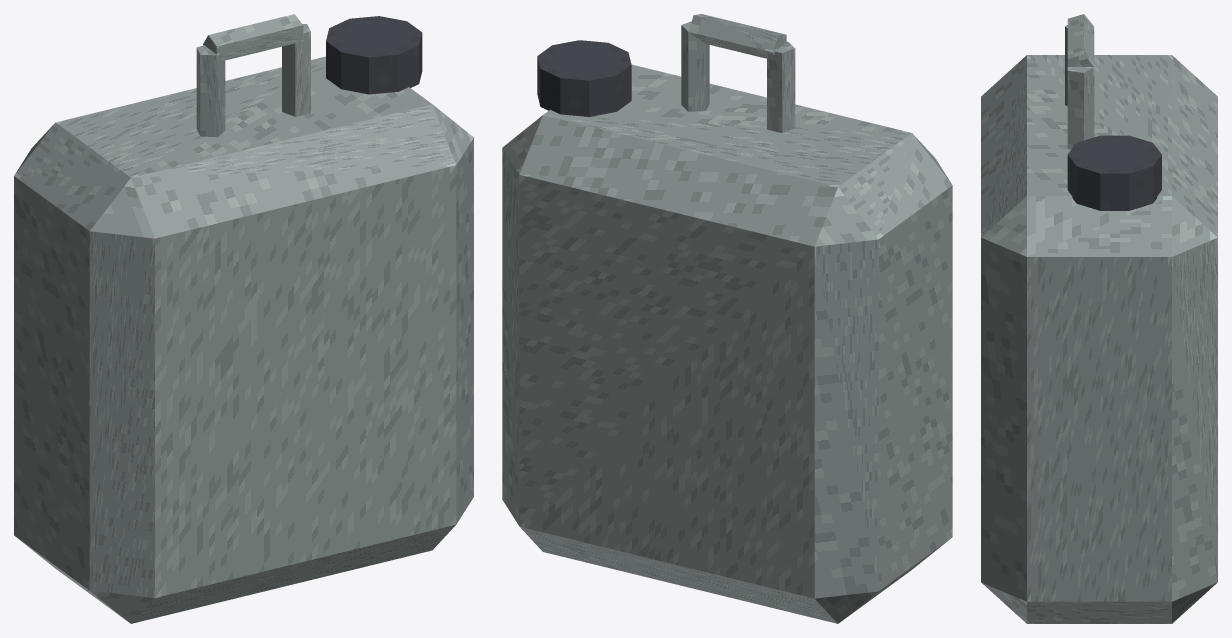
Rendered from fuel_tin.glb.
The picture shows the model from 3 angles, left to right: view 1: azimuth 30°, elevation 25°; view 2: azimuth 150°, elevation 25°; view 3: azimuth 270°, elevation 25°; orthographic projection. The views are drawn at different scales.
Visible parts, largest first — view 1: block_stamped tank, block_pouring cap, block_carrying handle 1, block_carrying handle 0, block_carrying handle 2; view 2: block_stamped tank, block_pouring cap, block_carrying handle 1, block_carrying handle 0, block_carrying handle 2; view 3: block_stamped tank, block_pouring cap, block_carrying handle 2, block_carrying handle 1.
Boxes of the visible parts, x1=… form: block_stamped tank: x1=14, y1=56, x2=473, y2=623; block_pouring cap: x1=326, y1=16, x2=422, y2=94; block_carrying handle 1: x1=203, y1=14, x2=303, y2=61; block_carrying handle 0: x1=196, y1=45, x2=225, y2=137; block_carrying handle 2: x1=282, y1=24, x2=310, y2=116; block_stamped tank: x1=502, y1=64, x2=952, y2=623; block_pouring cap: x1=537, y1=40, x2=631, y2=116; block_carrying handle 1: x1=688, y1=14, x2=786, y2=58; block_carrying handle 0: x1=767, y1=41, x2=795, y2=133; block_carrying handle 2: x1=681, y1=21, x2=709, y2=111; block_stamped tank: x1=981, y1=55, x2=1217, y2=623; block_pouring cap: x1=1067, y1=135, x2=1161, y2=210; block_carrying handle 2: x1=1067, y1=67, x2=1094, y2=149; block_carrying handle 1: x1=1067, y1=14, x2=1094, y2=66.
Bounding box in the file's own units: 0.1784 × 0.24 × 0.0992.
Materials: 1 (1 with a texture image).
